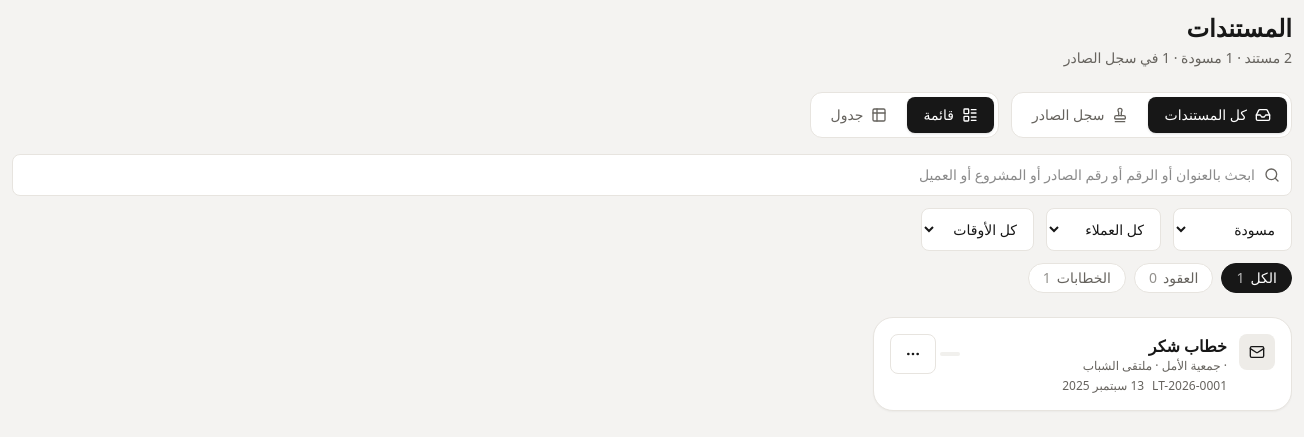
it: documents hub › filters by kind, status and period, and switches to a table it remembers
The image size is (1304, 437).
Expected: the button "خطاب شكر" is shown, [972, 334, 1227, 358]
What coordinates should you click on to do the following:
click the tab "جدول"
I would click on:
 (859, 115)
Its box is [814, 97, 903, 133].
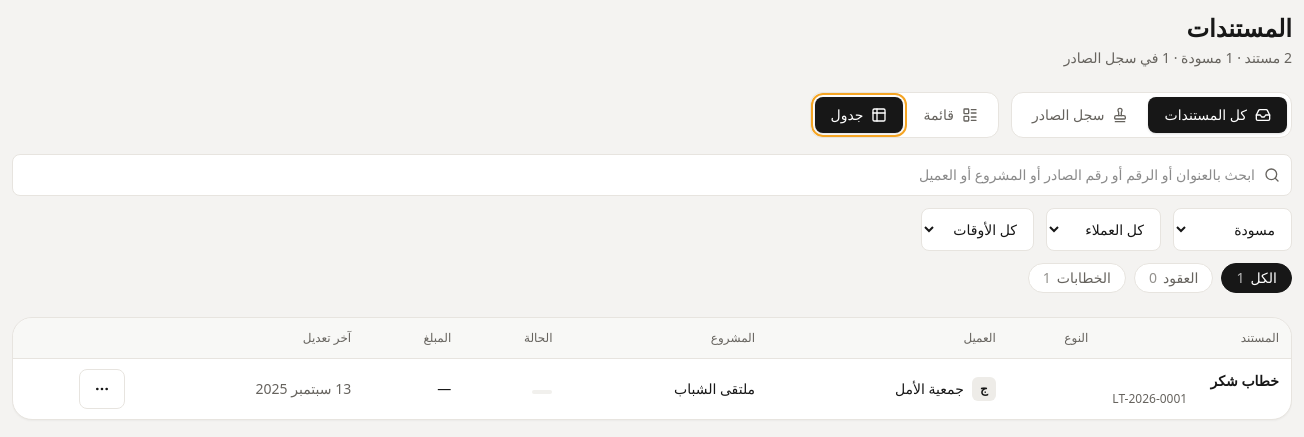
Result: the table is shown at [13, 318, 1291, 419]
